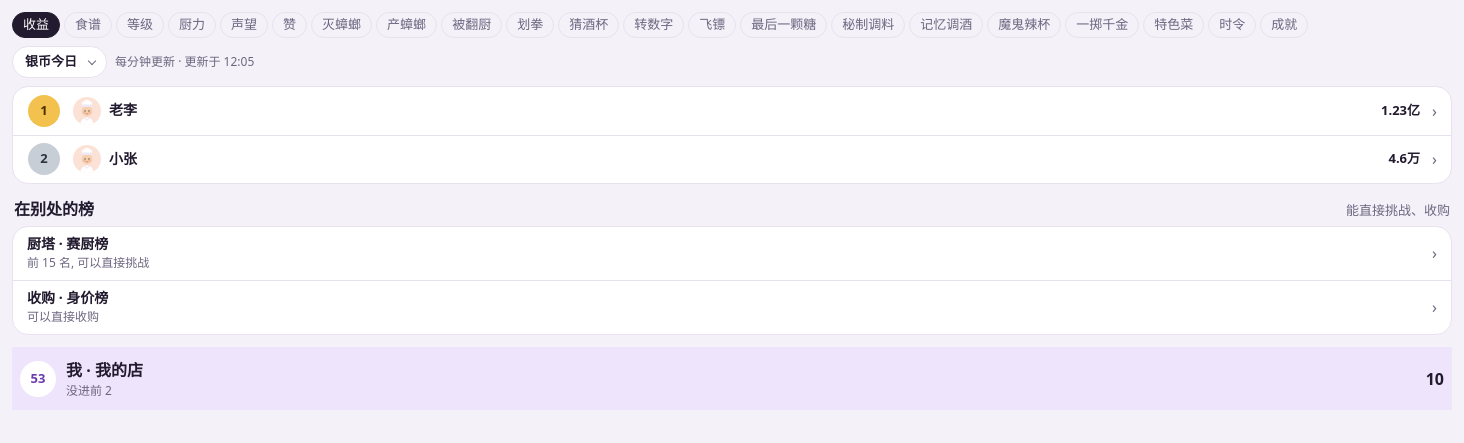
Test case: RankPanel › 我不在前列时底部单独显示；时令大类显示奖励说明（天气改版 PR③）
Click the button with test id "rank-group-时令": (1232, 25) x1=1208 y1=12 x2=1256 y2=38
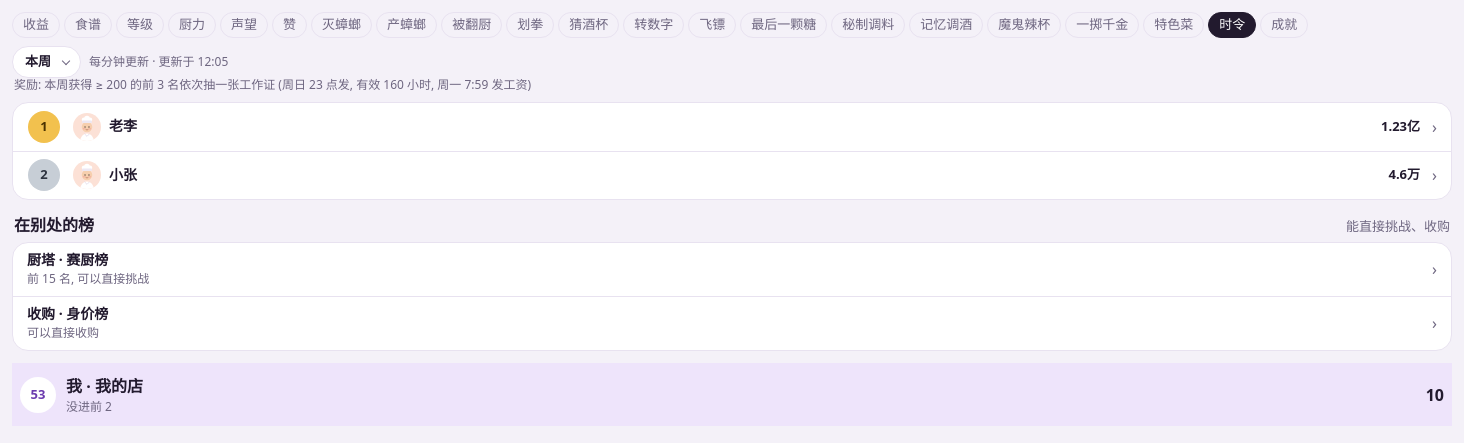
Expected: the text with class "dt-medal" reads "53", x1=31 y1=385 x2=46 y2=403
Expected: the text with test id "rank-reward" shows "工作证", x1=14 y1=76 x2=531 y2=92
